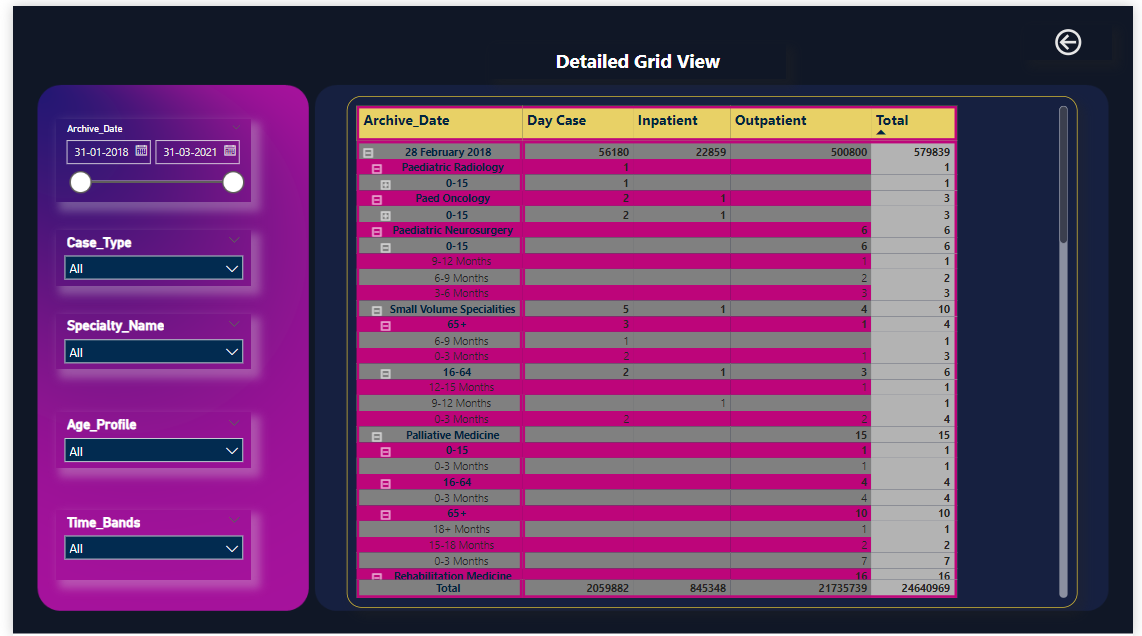

What the dashboard file says about the page in this screenshot:
{"tool":"powerbi","page":{"name":"Detail","canvas":[1280,720],"ordinal":1},"visuals":[{"type":"slicer","fields":{"Values":["All_Data.Case_Type"]},"box":[48,256,224,64],"z":0},{"type":"slicer","fields":{"Values":["All_Data.Specialty_Name"]},"box":[48,352,224,64],"z":1000},{"type":"slicer","fields":{"Values":["All_Data.Archive_Date"]},"box":[48,128,224,96],"z":2000},{"type":"textbox","box":[544.1,42.2,339,41],"z":3000},{"type":"slicer","fields":{"Values":["All_Data.Age_Profile"]},"box":[48,464,224,64],"z":4000},{"type":"slicer","fields":{"Values":["All_Data.Time_Bands"]},"box":[48,576,224,80],"z":5000},{"type":"pivotTable","fields":{"Rows":["All_Data.Archive_Date","All_Data.Specialty_Name","All_Data.Age_Profile","All_Data.Time_Bands"],"Columns":["All_Data.Case_Type"],"Values":["Sum(All_Data.Total)"]},"box":[381.2,102.5,834.9,585.1],"z":6000},{"type":"actionButton","box":[1155.8,21.7,100.1,39.8],"z":7000}]}

Visuals, with their boxes in screenshot pixels (x1, y1, x2, y2), scaled from the page's 1280x720 canvas onto the 1142x636 screenshot:
slicer - All_Data.Case_Type: 43,226,243,283
slicer - All_Data.Specialty_Name: 43,311,243,367
slicer - All_Data.Archive_Date: 43,113,243,198
textbox: 485,37,788,73
slicer - All_Data.Age_Profile: 43,410,243,466
slicer - All_Data.Time_Bands: 43,509,243,579
pivotTable - All_Data.Archive_Date x All_Data.Specialty_Name: 340,91,1085,607
actionButton: 1031,19,1120,54
